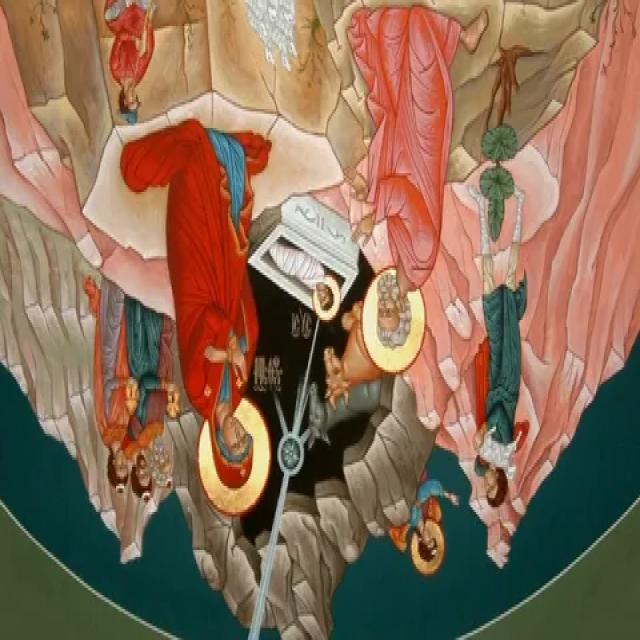mother of god: (152, 112, 272, 505)
